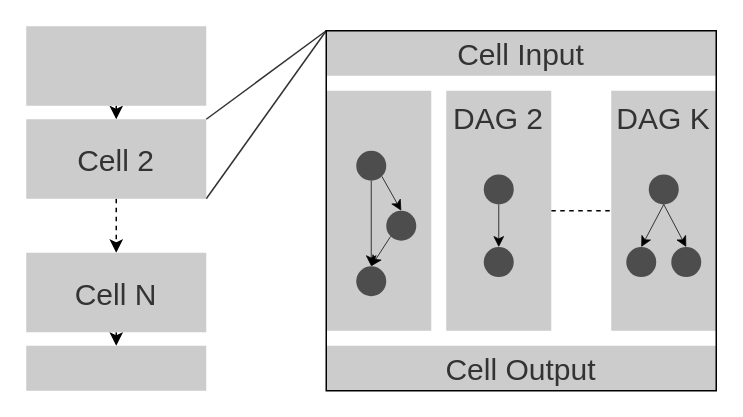
Image size: 743x417. Some labels were removed from this diagram. The box of each missing label's shape, as (x1, y1, x2, y2) in pixels:
Cell 1: (26, 26, 206, 105)
DAG 1: (326, 90, 430, 330)
Output: (26, 345, 206, 390)
